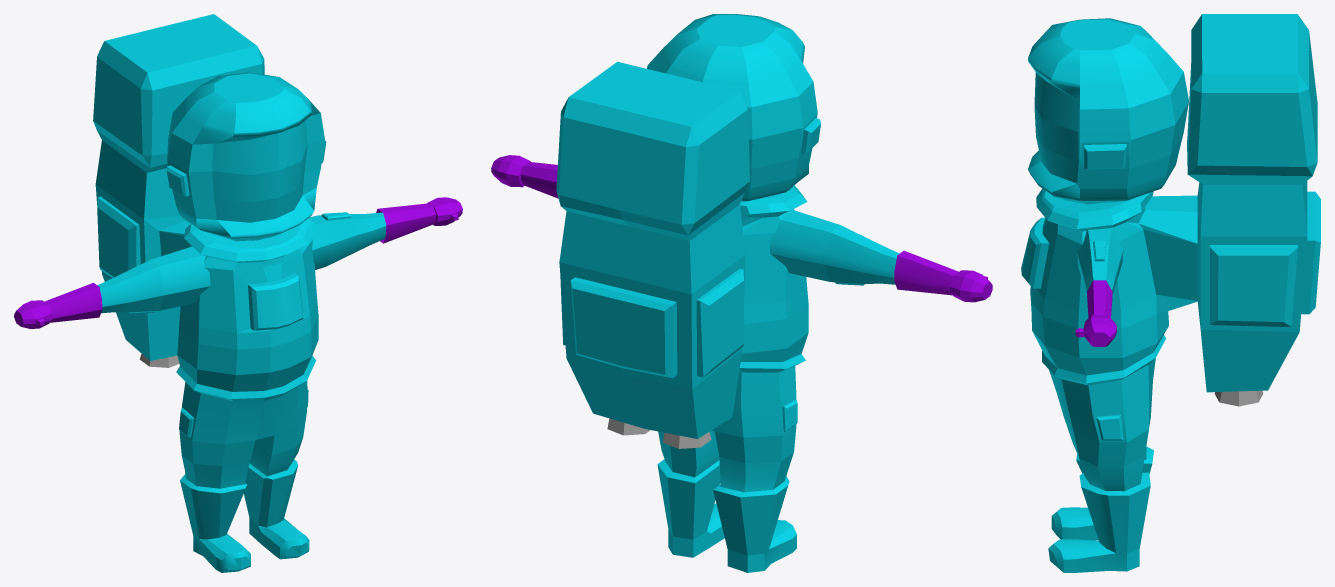
File: Astronauta.fbx
The picture shows the model from 3 angles, left to right: view 1: azimuth 30°, elevation 25°; view 2: azimuth 150°, elevation 25°; view 3: azimuth 270°, elevation 25°; orthographic projection. The views are drawn at different scales.
Parts seen in each view (by area): view 1: polySurface105, polySurface70, polySurface106, polySurface107, polySurface108, polySurface96, polySurface97, polySurface98; view 2: polySurface105, polySurface70, polySurface107, polySurface108, polySurface106, polySurface96, polySurface97, polySurface69; view 3: polySurface105, polySurface70, polySurface106, polySurface107, polySurface108, polySurface98, polySurface97, polySurface69.
Part boxes in pixels (x1,y1,x2,y2): polySurface105: [93, 14, 264, 360]; polySurface70: [166, 72, 326, 241]; polySurface106: [159, 217, 318, 391]; polySurface107: [176, 356, 316, 488]; polySurface108: [180, 459, 309, 572]; polySurface96: [97, 246, 210, 313]; polySurface97: [14, 197, 462, 328]; polySurface98: [309, 212, 386, 269]; polySurface105: [556, 61, 749, 438]; polySurface70: [647, 14, 820, 201]; polySurface107: [658, 354, 805, 492]; polySurface108: [657, 459, 796, 572]; polySurface106: [740, 185, 808, 361]; polySurface96: [770, 209, 899, 285]; polySurface97: [491, 155, 992, 302]; polySurface69: [607, 418, 711, 448]; polySurface105: [1187, 14, 1320, 392]; polySurface70: [1028, 18, 1188, 202]; polySurface106: [1021, 188, 1197, 375]; polySurface107: [1042, 335, 1165, 491]; polySurface108: [1048, 446, 1153, 572]; polySurface98: [1076, 228, 1123, 294]; polySurface97: [1075, 280, 1117, 346]; polySurface69: [1214, 390, 1263, 406].
Size of the model in its own units: 1139 by 1150 by 609.
